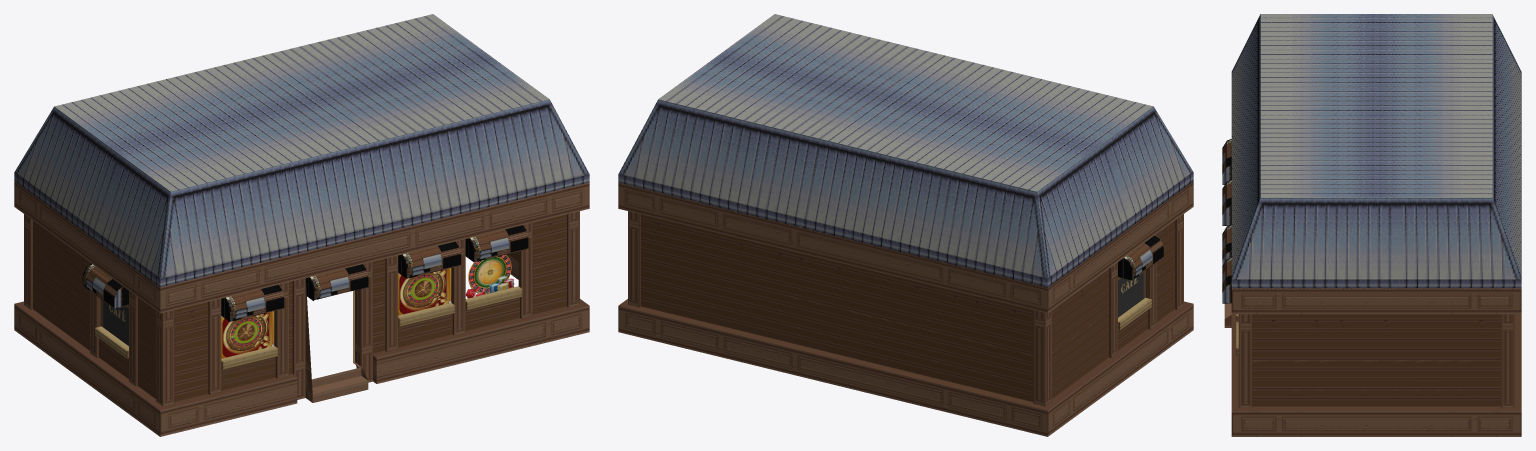
3 views of the same model, side by side, from view 1: azimuth 30°, elevation 25°; view 2: azimuth 150°, elevation 25°; view 3: azimuth 270°, elevation 25° (orthographic).
Visible parts, largest first — view 1: Cafe:cafe1; view 2: Cafe:cafe1; view 3: Cafe:cafe1.
Part boxes in pixels (x1,y1,x2,y2): Cafe:cafe1: [14, 14, 589, 436]; Cafe:cafe1: [618, 14, 1193, 436]; Cafe:cafe1: [1222, 14, 1521, 436].
Bounding box in the file's own units: 121 × 60.28 × 72.02.
